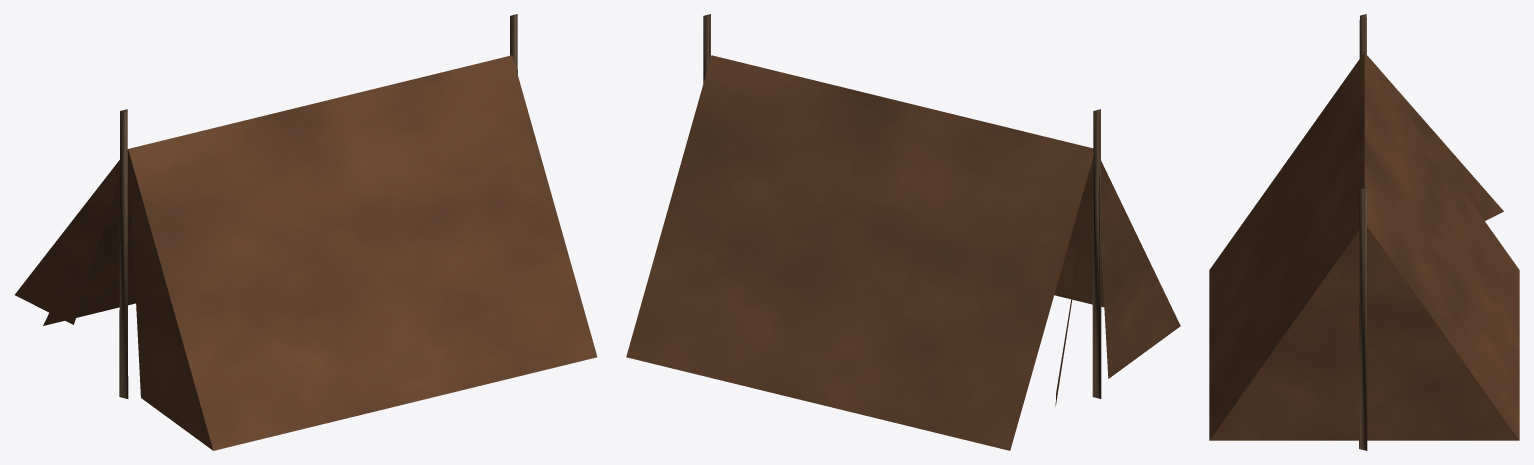
File: Tent_Pilgrim_3_LOD1.gltf
3 renders of one model, left to right at view 1: azimuth 30°, elevation 25°; view 2: azimuth 150°, elevation 25°; view 3: azimuth 270°, elevation 25°, orthographic. The views are drawn at different scales.
Visible parts, largest first — view 1: Tent_Pilgrim_3_LOD1; view 2: Tent_Pilgrim_3_LOD1; view 3: Tent_Pilgrim_3_LOD1.
Boxes of the visible parts, left/top/right/bottom form: Tent_Pilgrim_3_LOD1: left=15, top=14, right=597, bottom=450; Tent_Pilgrim_3_LOD1: left=626, top=14, right=1180, bottom=450; Tent_Pilgrim_3_LOD1: left=1209, top=14, right=1519, bottom=450.
Size of the model in its own units: 2.9 by 1.85 by 2.
Materials: 2 (2 with a texture image).
